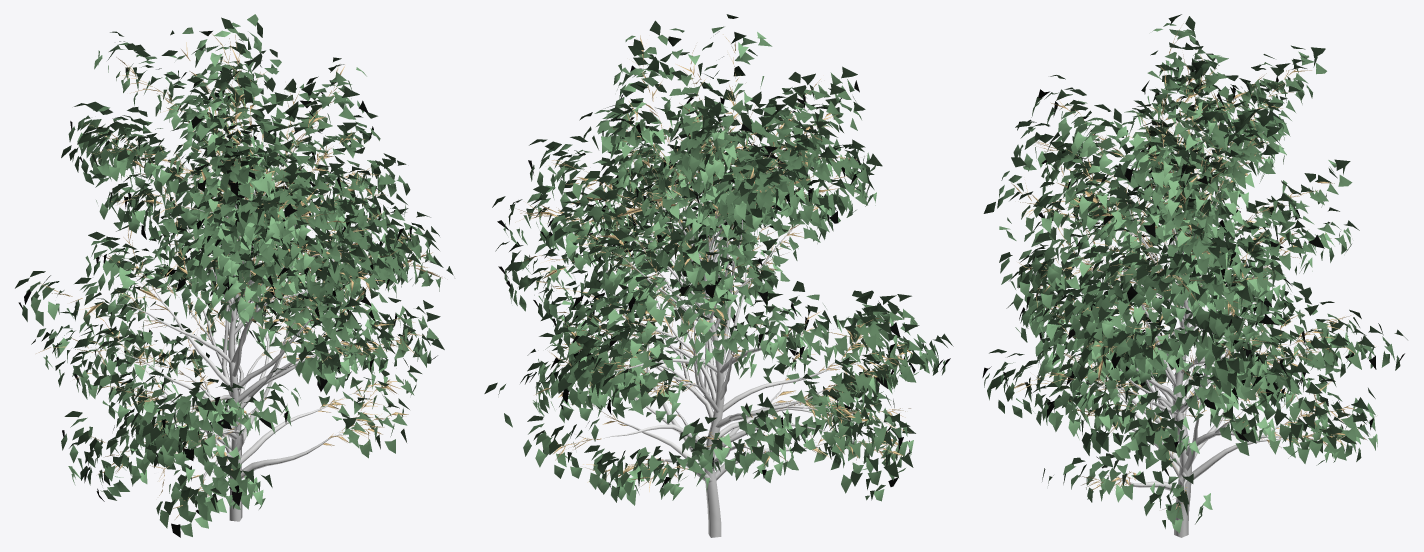
File: first_d_tree 1.fbx
The picture shows the model from 3 angles, left to right: view 1: azimuth 30°, elevation 25°; view 2: azimuth 150°, elevation 25°; view 3: azimuth 270°, elevation 25°; orthographic projection. The views are drawn at different scales.
Visible parts, largest first — view 1: leafs.001, first tree.001; view 2: leafs.001, first tree.001; view 3: leafs.001, first tree.001.
Boxes of the visible parts, x1=… form: leafs.001: x1=15, y1=14, x2=453, y2=537; first tree.001: x1=82, y1=112, x2=401, y2=521; leafs.001: x1=484, y1=14, x2=953, y2=505; first tree.001: x1=582, y1=77, x2=901, y2=537; leafs.001: x1=982, y1=14, x2=1407, y2=533; first tree.001: x1=1035, y1=85, x2=1343, y2=537.
Size of the model in its own units: 3037 by 3814 by 2874.
